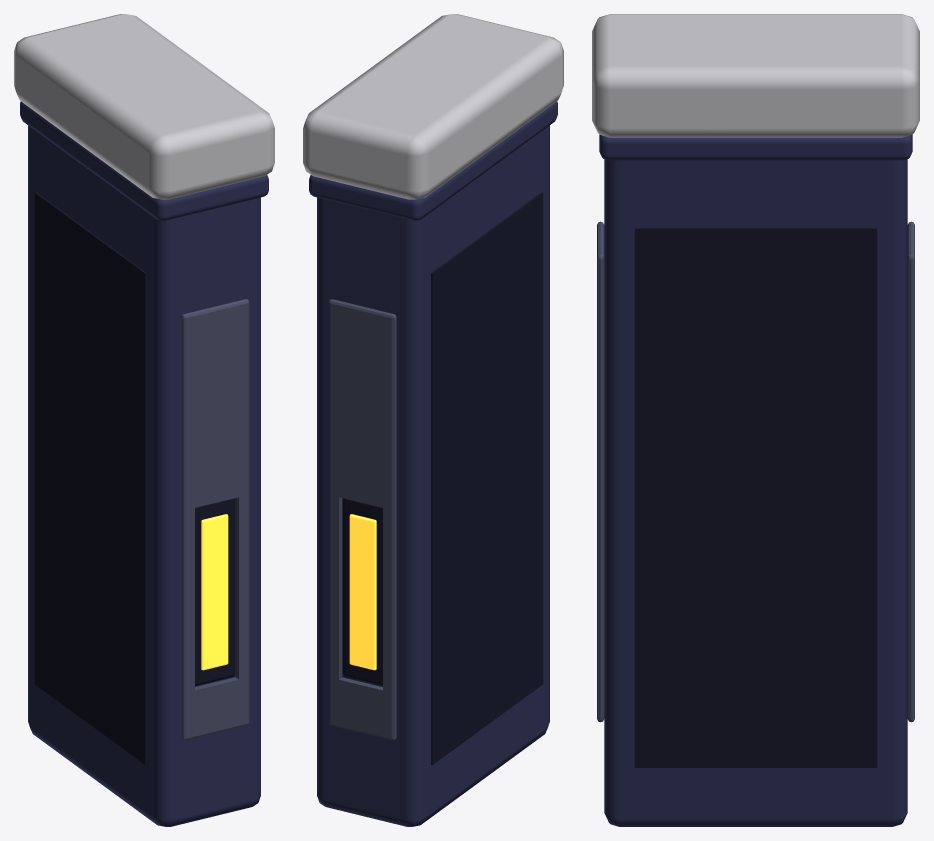
File: int.post.white.aperture.glb
3 renders of one model, left to right at view 1: azimuth 30°, elevation 25°; view 2: azimuth 150°, elevation 25°; view 3: azimuth 270°, elevation 25°, orthographic. The views are drawn at different scales.
Parts seen in each view (by area): view 1: int.post.white; view 2: int.post.white; view 3: int.post.white.
Part boxes in pixels (x1,y1,x2,y2): int.post.white: [14, 14, 274, 826]; int.post.white: [303, 14, 563, 826]; int.post.white: [592, 14, 919, 826].
Bounding box in the file's own units: 0.26 × 1.39 × 0.54.
